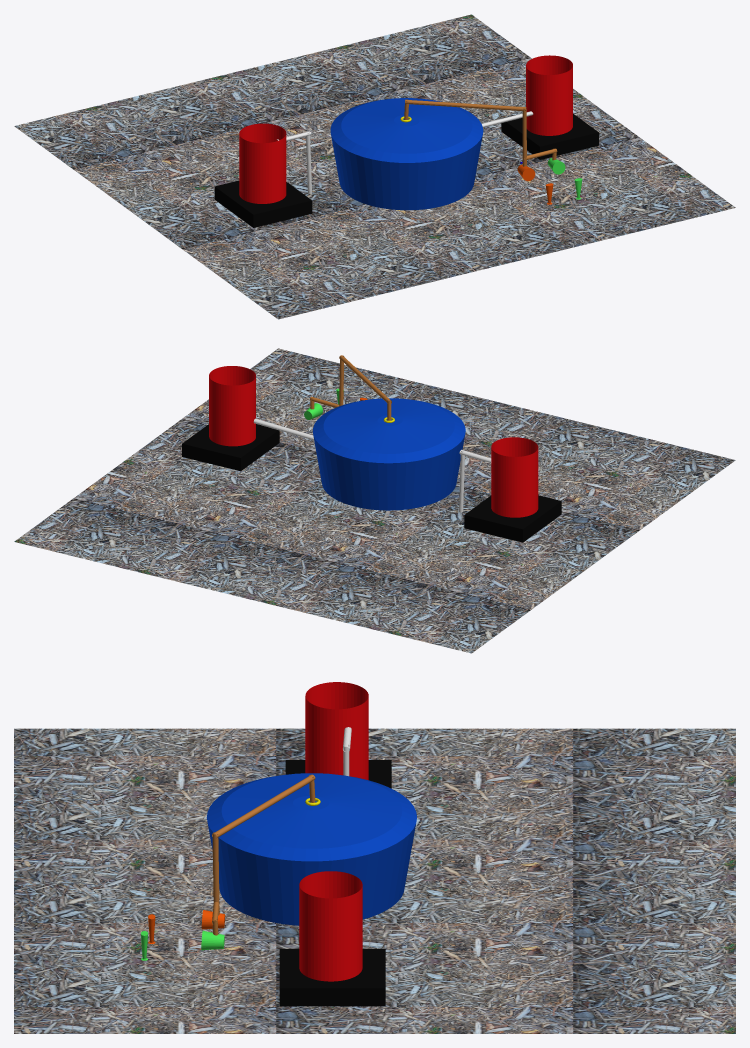
File: Biodigestor.fbx
The picture shows the model from 3 angles, top to bottom: view 1: azimuth 30°, elevation 25°; view 2: azimuth 150°, elevation 25°; view 3: azimuth 270°, elevation 25°; orthographic projection. The views are drawn at different scales.
Parts seen in each view (by area): view 1: Plano, Cilindro.001, Cilindro, Cilindro.005, Cilindro.008; view 2: Plano, Cilindro.001, Cilindro, Cilindro.005, Cilindro.008; view 3: Plano, Cilindro.001, Cilindro.005, Cilindro, Cilindro.008.
Part boxes in pixels (left/top/right/bottom): Plano: left=14, top=14, right=735, bottom=319; Cilindro.001: left=330, top=98, right=483, bottom=210; Cilindro: left=214, top=123, right=312, bottom=227; Cilindro.005: left=501, top=55, right=598, bottom=159; Cilindro.008: left=404, top=99, right=557, bottom=166; Plano: left=14, top=348, right=735, bottom=653; Cilindro.001: left=313, top=398, right=465, bottom=510; Cilindro: left=464, top=437, right=561, bottom=542; Cilindro.005: left=182, top=366, right=279, bottom=471; Cilindro.008: left=310, top=355, right=391, bottom=420; Plano: left=14, top=728, right=735, bottom=1033; Cilindro.001: left=207, top=773, right=416, bottom=925; Cilindro.005: left=279, top=871, right=385, bottom=1006; Cilindro: left=285, top=682, right=391, bottom=788; Cilindro.008: left=212, top=774, right=315, bottom=935.
Bounding box in the file's own units: 900 × 240 × 900.
